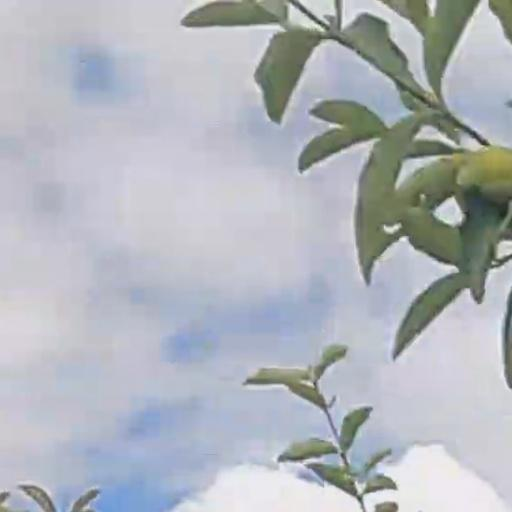acerola: (462, 149, 512, 187)
